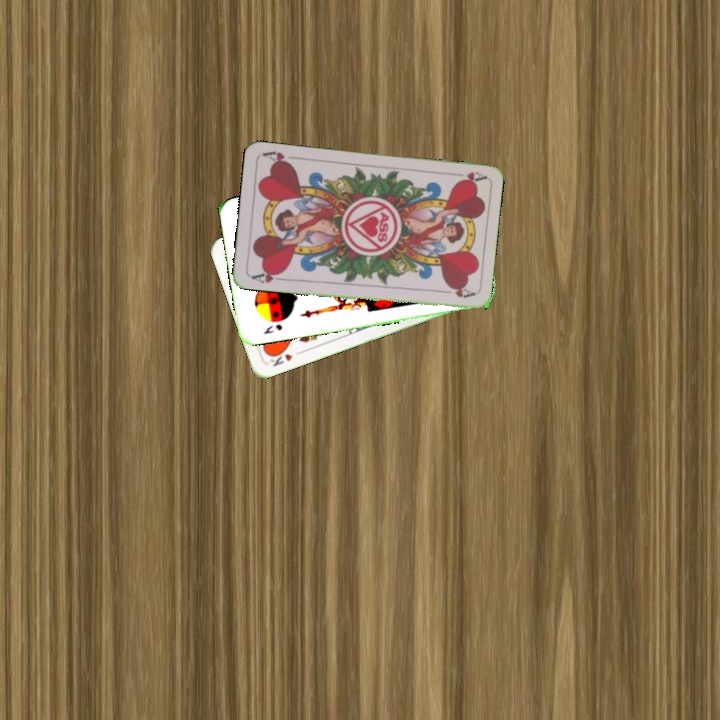HA: (247, 266, 287, 286), (447, 168, 487, 186)
HK: (265, 346, 295, 369)
SK: (259, 320, 285, 337)
